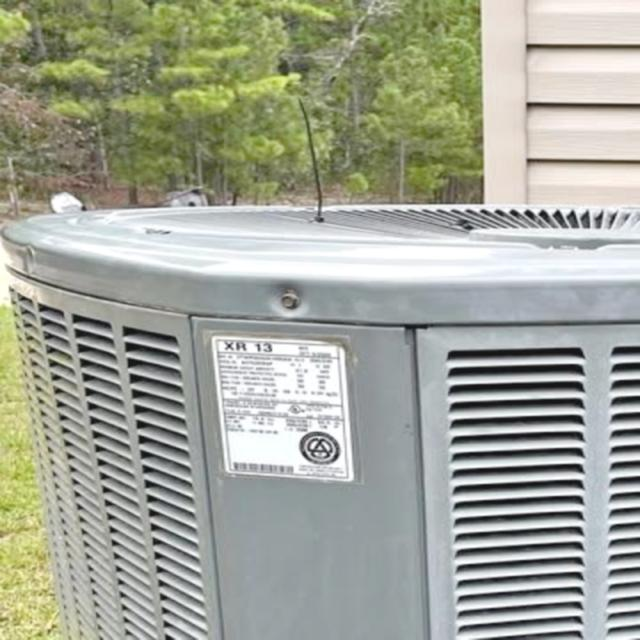SPLIT-SYSTEM: (14, 194, 640, 640)
